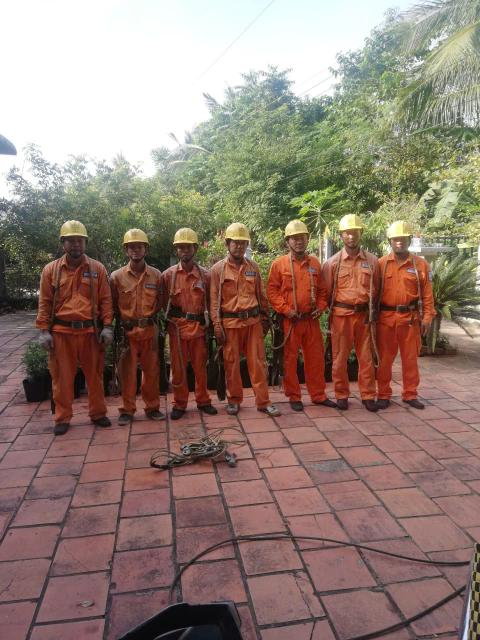gloves: (93, 328, 118, 347), (37, 330, 57, 353), (212, 327, 229, 346), (257, 319, 273, 337)
harness: (47, 313, 102, 331), (277, 303, 322, 324), (331, 296, 371, 317), (114, 314, 163, 329), (217, 307, 263, 322), (378, 299, 420, 315), (167, 310, 208, 324)
helmet: (54, 214, 93, 242), (276, 218, 314, 243), (339, 208, 369, 237), (222, 219, 254, 244), (170, 226, 202, 247), (122, 226, 152, 246), (390, 221, 415, 241)
shoes: (400, 390, 428, 412), (44, 417, 74, 436), (146, 406, 173, 426), (283, 395, 309, 415), (311, 393, 337, 413), (89, 413, 115, 432), (257, 400, 280, 419), (360, 394, 383, 413), (167, 404, 187, 424), (193, 403, 220, 417), (222, 398, 244, 415), (375, 391, 392, 411), (334, 393, 350, 413), (116, 411, 132, 429)
